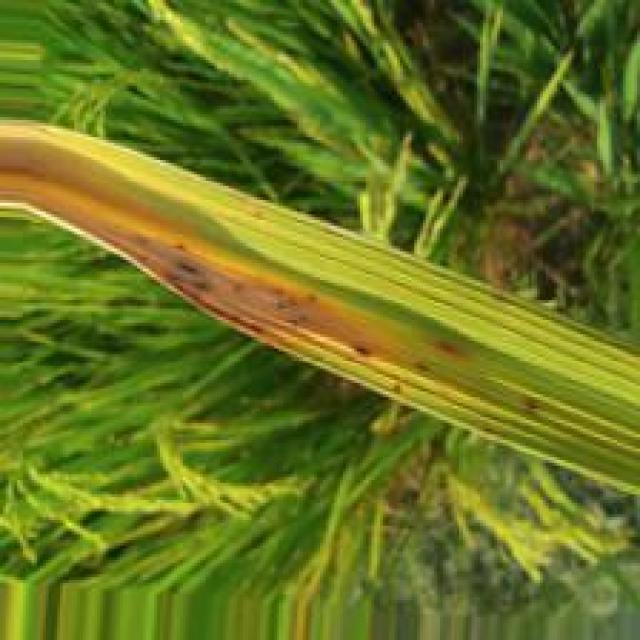Bacterial_Leaf_Blight: (0, 132, 478, 419)
